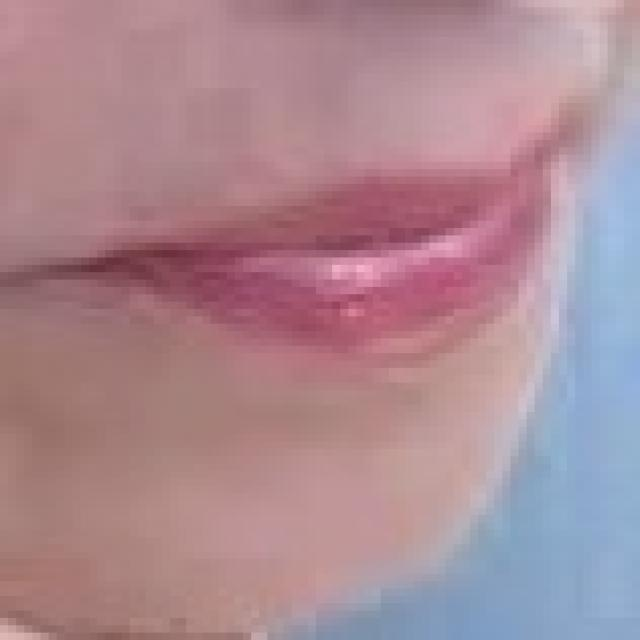closed-mouth: (0, 110, 567, 360)
